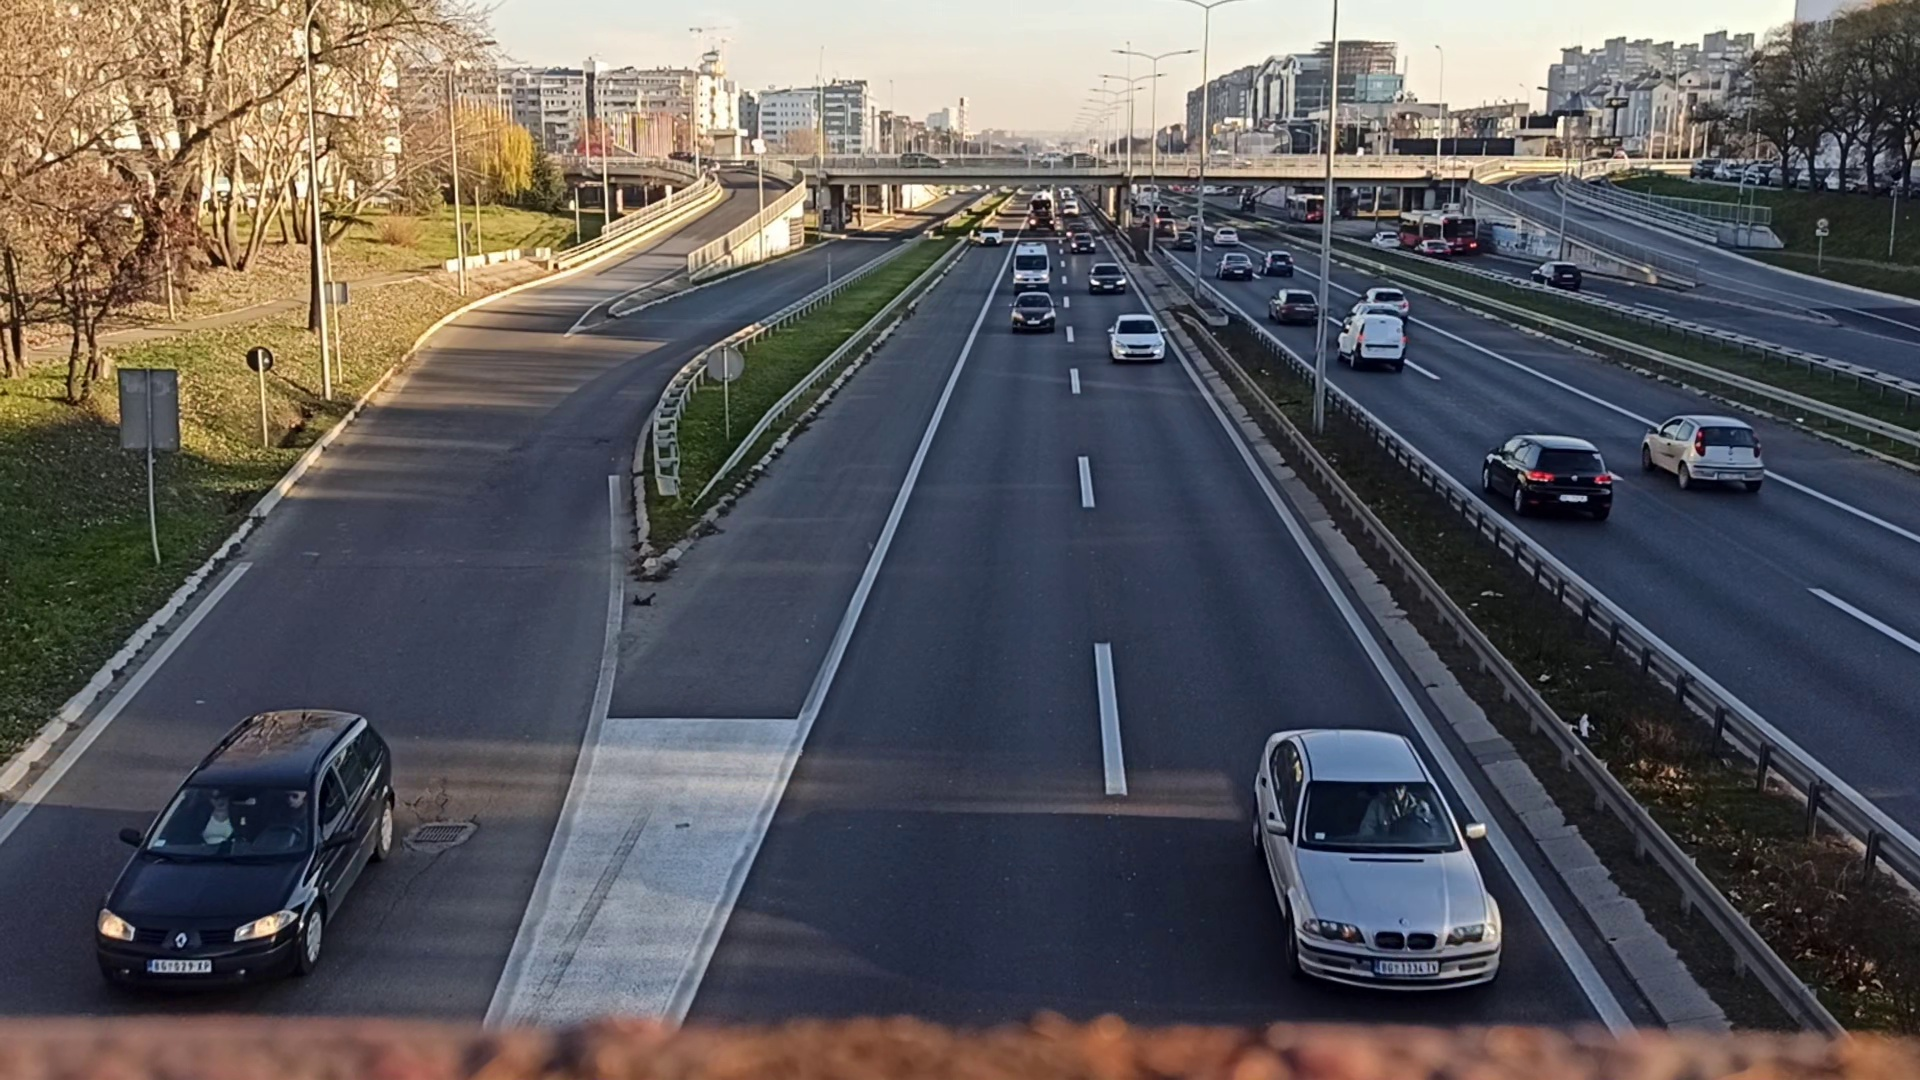car: (91, 715, 421, 994), (1236, 719, 1509, 1004), (1640, 407, 1760, 501), (1487, 429, 1604, 521), (1105, 313, 1166, 367), (1000, 290, 1065, 334), (1087, 264, 1127, 295)
van: (1011, 243, 1054, 286)
